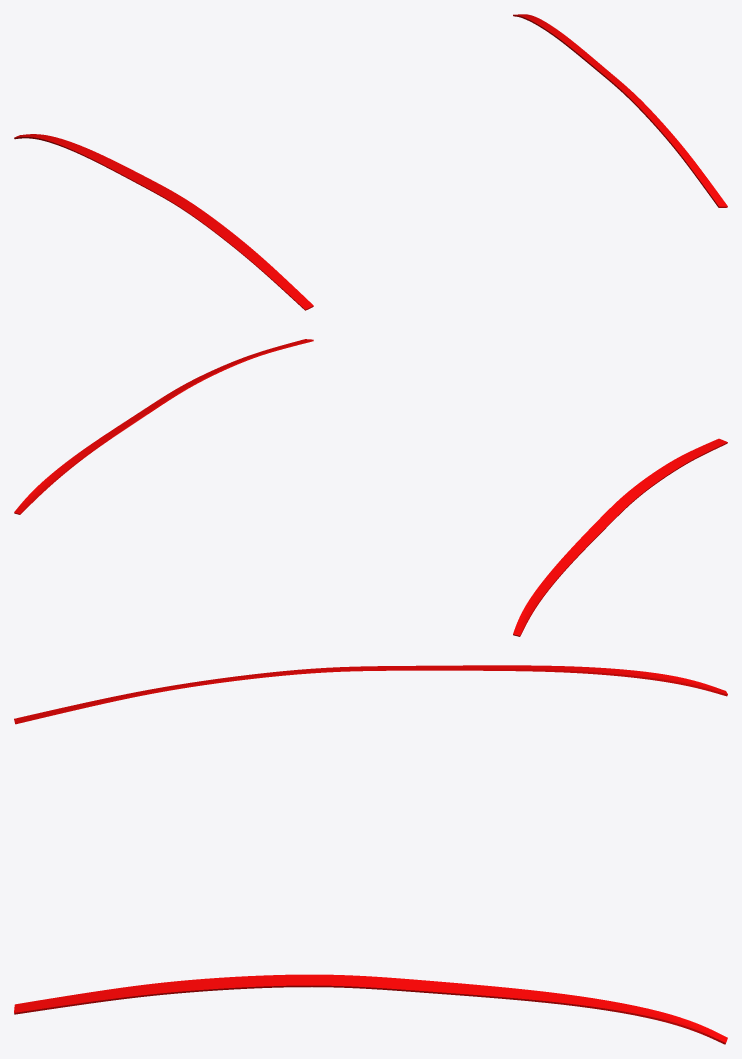
Rendered from MK5roofbars.glb.
The picture shows the model from 3 angles, top to bottom: view 1: azimuth 30°, elevation 25°; view 2: azimuth 150°, elevation 25°; view 3: azimuth 270°, elevation 25°; orthographic projection. The views are drawn at different scales.
Parts seen in each view (by area): view 1: Object_36; view 2: Object_36; view 3: Object_36.
Part boxes in pixels (x1,y1,x2,y2): Object_36: (14, 14, 727, 310); Object_36: (14, 339, 727, 636); Object_36: (14, 665, 727, 1044).
Bounding box in the file's own units: 0.7729 × 0.0476 × 0.6624.
